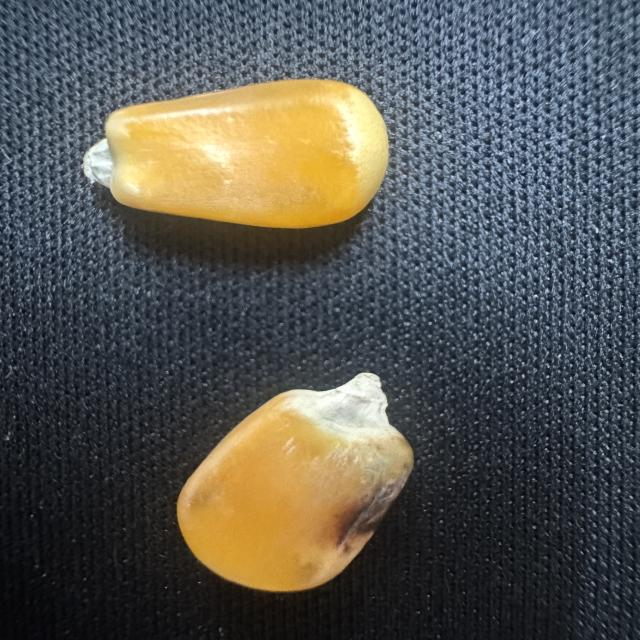Bad-Seed: (149, 364, 431, 608)
Good-Seed: (60, 72, 397, 256)
